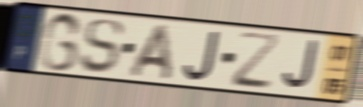A: (125, 21, 174, 82)
G: (36, 11, 85, 74)
J: (280, 38, 320, 93), (182, 29, 222, 83)
S: (78, 17, 126, 76)
Z: (231, 30, 282, 92)
